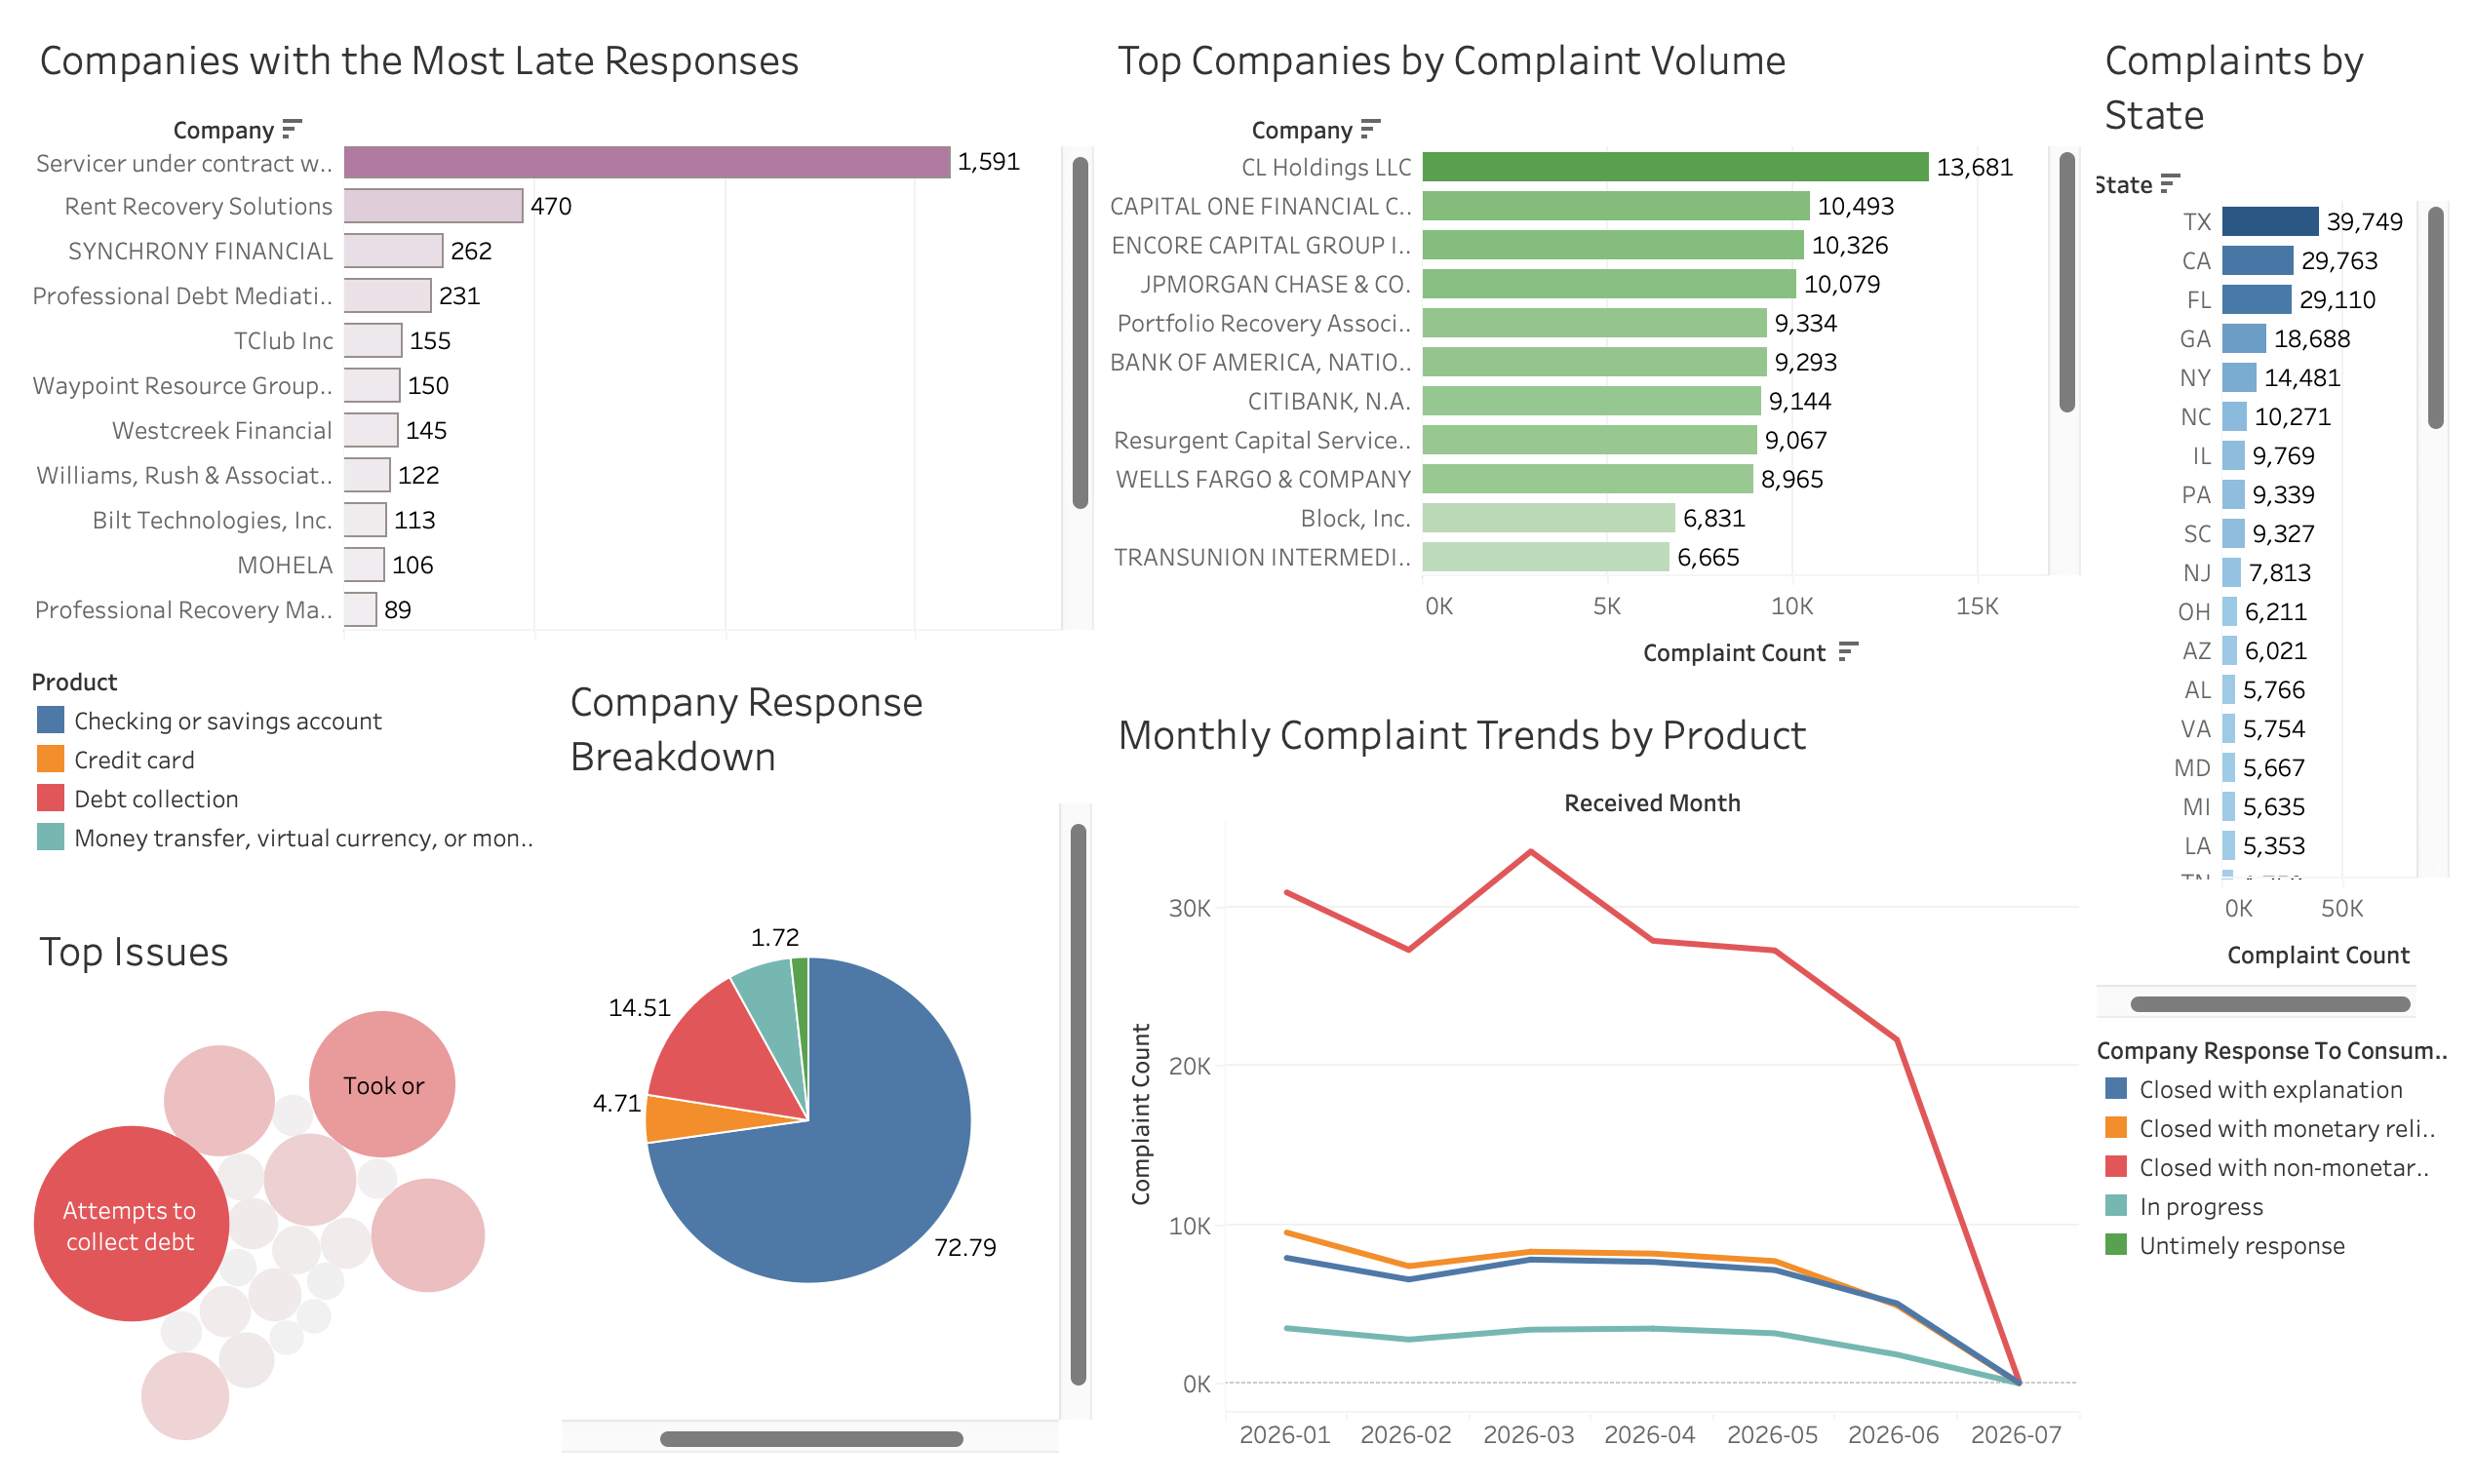

The dashboard page shown, as its layout file describes it:
{"tool":"tableau","page":{"name":"Dashboard 1","canvas":[1000,1000],"units":"permille","ordinal":0},"visuals":[{"type":"worksheet","title":"Lowest Timely Response Rate by Company","mark":"Automatic","rows":["company"],"cols":["late_responses"],"box":[15,22.5,413.9,424.2]},{"type":"worksheet","title":"Top Companies by Complaint Volume","mark":"Bar","rows":["company"],"cols":["complaint_count"],"box":[428.9,22.5,379.3,445.5]},{"type":"worksheet","title":"Complaints by State","mark":"Automatic","rows":["state"],"cols":["complaint_count"],"box":[808.2,22.5,176.8,728.6]},{"type":"legend","title":"Monthly Complaint Trends by Product","param":"[federated.0gx7t7x0d9a91j19zvtuv0vkpjg5].[none:product:nk]","box":[15,446.8,204.1,164.2]},{"type":"worksheet","title":"Response Breakdown","mark":"Pie","box":[219,446.8,209.9,530.8]},{"type":"worksheet","title":"Monthly Complaint Trends by Product","mark":"Line","rows":["complaint_count"],"cols":["received_month"],"box":[428.9,468,379.3,509.5]},{"type":"worksheet","title":"Top Issues","mark":"Circle","box":[15,611,204.1,366.5]},{"type":"legend","title":"Response Breakdown","param":"[federated.1dp51vo0gs1zu011hayxb09ubo81].[none:company_response_to_consumer:nk]","box":[808.2,751.1,176.8,177.2]}]}

Visuals, with their boxes on the dashboard's canvas, which has no fixed pixel size, in thousandths of its width and height (x1, y1, x2, y2). These are canvas units, not pixel positions in the 2475x1484 screenshot, which may show the page scaled, cropped or inside an application window:
"Lowest Timely Response Rate by Company" worksheet: 15, 22, 429, 447
"Top Companies by Complaint Volume" worksheet (Bar marks): 429, 22, 808, 468
"Complaints by State" worksheet: 808, 22, 985, 751
"Monthly Complaint Trends by Product" legend: 15, 447, 219, 611
"Response Breakdown" worksheet (Pie marks): 219, 447, 429, 978
"Monthly Complaint Trends by Product" worksheet (Line marks): 429, 468, 808, 978
"Top Issues" worksheet (Circle marks): 15, 611, 219, 978
"Response Breakdown" legend: 808, 751, 985, 928
